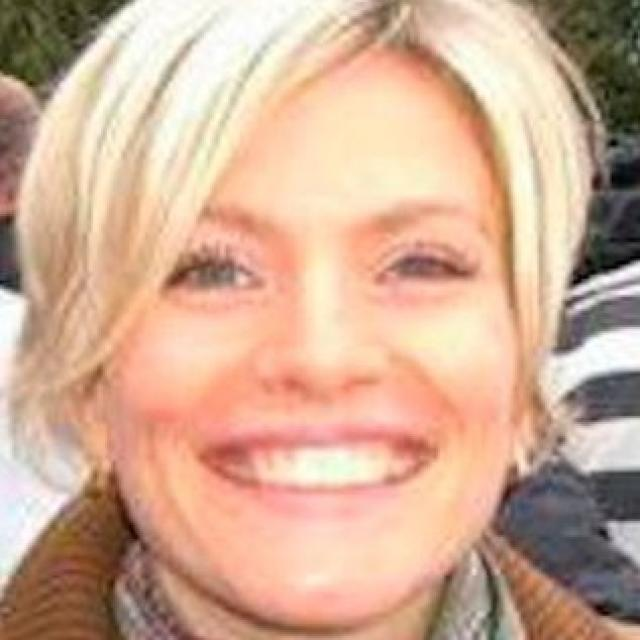Normal: (101, 35, 528, 633)
